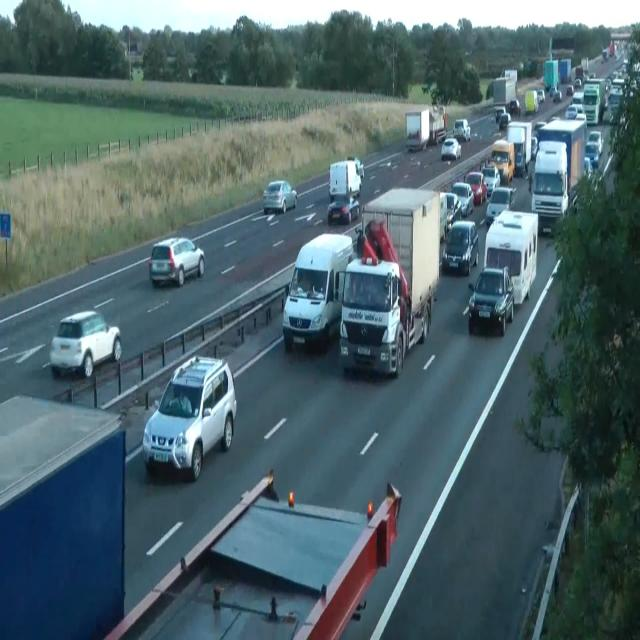bus: (149, 237, 205, 287), (486, 186, 516, 227), (262, 180, 298, 214), (326, 195, 359, 225), (439, 191, 462, 229), (451, 181, 474, 217), (465, 170, 487, 204), (481, 163, 501, 196), (406, 129, 428, 151), (441, 137, 461, 161), (453, 118, 471, 142), (346, 156, 364, 180), (585, 140, 599, 168), (588, 130, 603, 154), (498, 112, 512, 130), (508, 98, 520, 115), (494, 106, 506, 122), (565, 104, 577, 119), (536, 88, 545, 104), (566, 84, 574, 96), (553, 91, 561, 101), (602, 49, 608, 61), (575, 77, 581, 89)
car: (282, 231, 354, 351), (338, 255, 406, 378)
jeep: (142, 354, 236, 481), (49, 308, 122, 378), (468, 265, 514, 336), (442, 220, 478, 274)
minibus: (338, 186, 441, 378), (528, 117, 586, 235), (484, 209, 538, 305), (405, 105, 447, 151), (328, 156, 364, 202), (506, 120, 532, 176), (490, 139, 515, 185), (583, 78, 607, 124), (492, 77, 516, 111), (429, 105, 447, 145), (544, 58, 558, 90), (558, 58, 572, 84), (524, 90, 538, 116), (500, 68, 518, 84), (571, 65, 583, 89)
